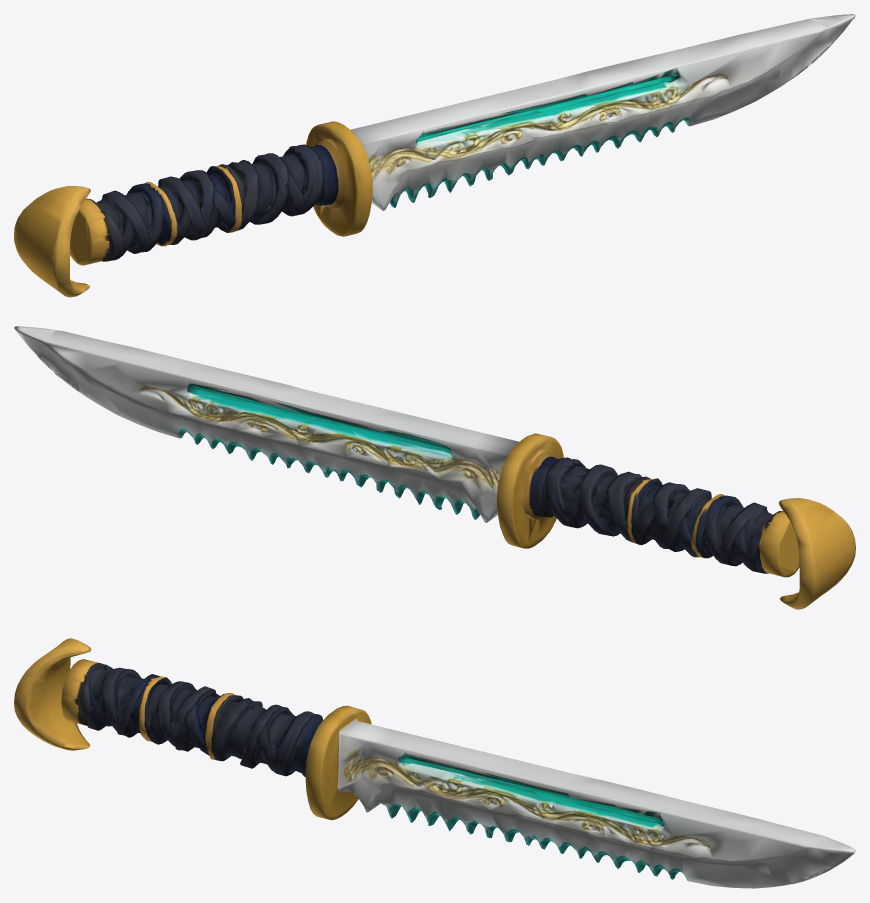
Rendered from prop_tomoe_blade.glb.
3 views of the same model, one above another, from view 1: azimuth 30°, elevation 25°; view 2: azimuth 150°, elevation 25°; view 3: azimuth 330°, elevation 25° (orthographic).
Parts seen in each view (by area): view 1: tripo_node_9e13d958-6850-49b6-bbd6-ea37174d3b87; view 2: tripo_node_9e13d958-6850-49b6-bbd6-ea37174d3b87; view 3: tripo_node_9e13d958-6850-49b6-bbd6-ea37174d3b87.
Part boxes in pixels (x1=…): tripo_node_9e13d958-6850-49b6-bbd6-ea37174d3b87: x1=14, y1=14, x2=855, y2=297; tripo_node_9e13d958-6850-49b6-bbd6-ea37174d3b87: x1=14, y1=326, x2=855, y2=609; tripo_node_9e13d958-6850-49b6-bbd6-ea37174d3b87: x1=14, y1=638, x2=855, y2=888.
Bounding box in the file's own units: 0.9832 × 0.1212 × 0.1098.
1 material, 1 textured.
